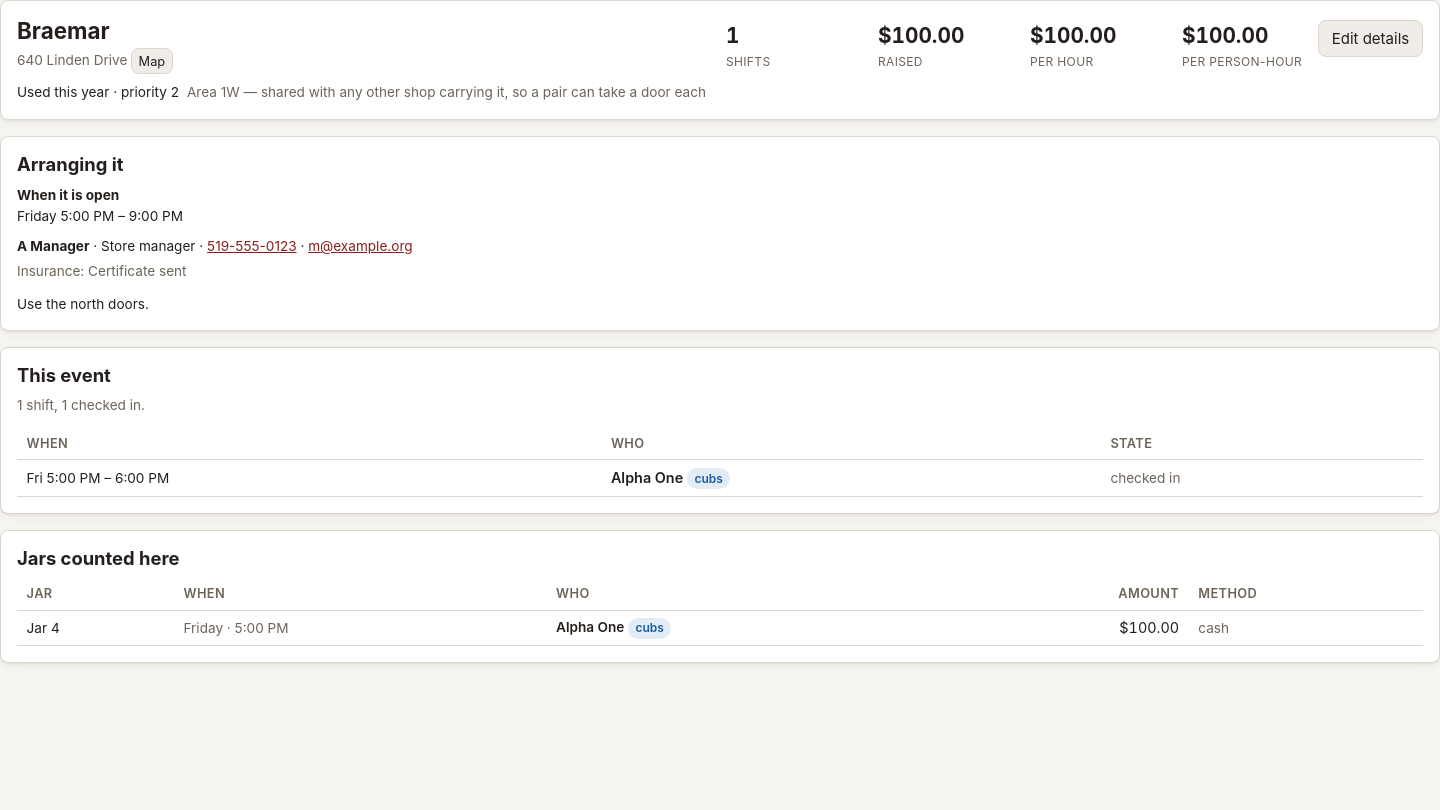
Test: correcting a location from its own page › opens the library editor, filled in
This screenshot has width=1440, height=810.
Click the button "Edit details".
click(1370, 39)  # box [1318,20,1423,58]
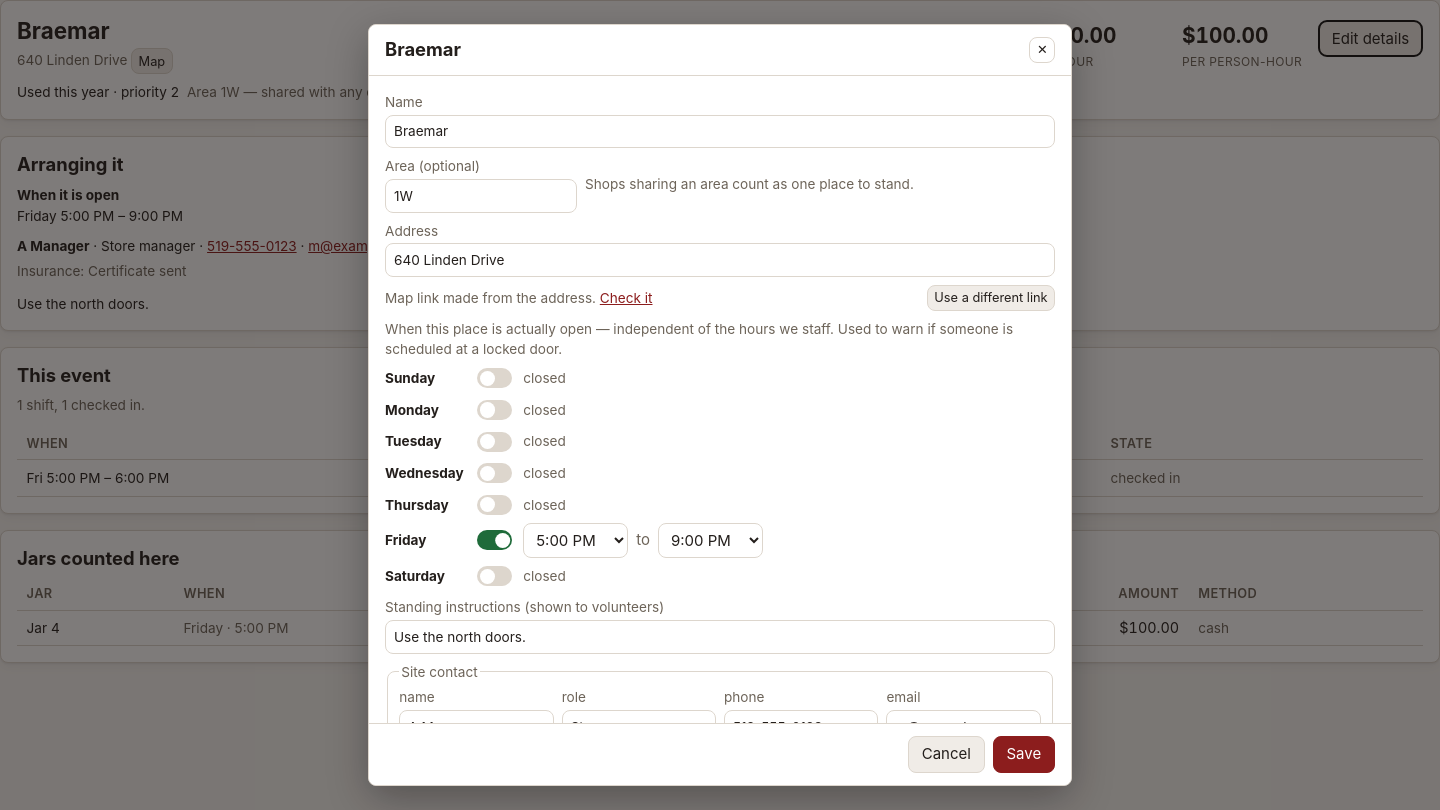
Result: the field labelled "Name" holds "Braemar" at [385,115,1055,148]
Result: the field labelled "Address" holds "640 Linden Drive" at [385,244,1055,277]
